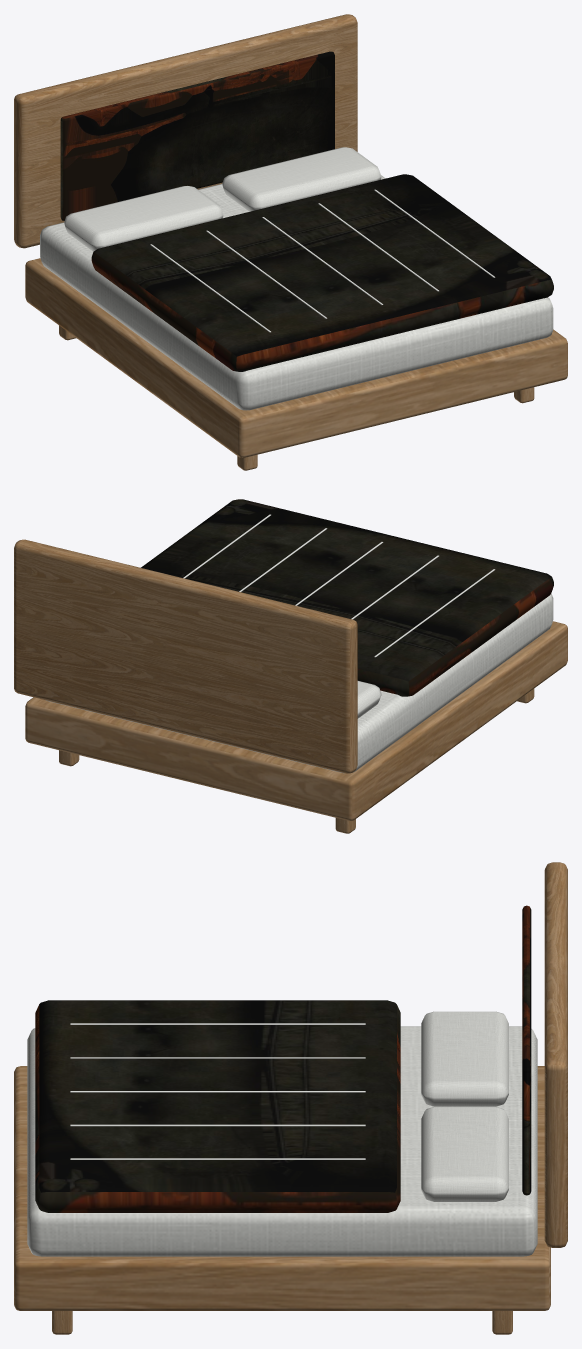
The model's file is bed_king_blue.glb.
3 renders of one model, top to bottom at view 1: azimuth 30°, elevation 25°; view 2: azimuth 150°, elevation 25°; view 3: azimuth 270°, elevation 25°, orthographic. The views are drawn at different scales.
Parts seen in each view (by area): view 1: quilt, padded headboard, bed frame, mattress, headboard, pillow, pillow.001; view 2: headboard, quilt, bed frame, mattress, pillow; view 3: quilt, bed frame, mattress, headboard, pillow, pillow.001, padded headboard, stitched quilt channel.003, stitched quilt channel, stitched quilt channel.001, stitched quilt channel.002, stitched quilt channel.004.
Boxes of the visible parts, x1,y1,x2,y2 form: quilt: (91, 174, 553, 371); padded headboard: (60, 51, 334, 220); bed frame: (25, 258, 567, 457); mattress: (40, 175, 553, 410); headboard: (14, 14, 357, 248); pillow: (64, 186, 223, 251); pillow.001: (222, 147, 381, 211); headboard: (14, 539, 357, 773); quilt: (141, 499, 553, 696); bed frame: (25, 621, 567, 820); mattress: (46, 593, 553, 773); pillow: (357, 681, 381, 718); quilt: (35, 1000, 400, 1212); bed frame: (14, 1066, 550, 1310); mattress: (27, 1026, 537, 1256); headboard: (544, 862, 567, 1247); pillow: (421, 1011, 508, 1106); pillow.001: (421, 1107, 508, 1201); padded headboard: (522, 905, 531, 1195); stitched quilt channel.003: (70, 1124, 365, 1126); stitched quilt channel: (70, 1023, 365, 1024); stitched quilt channel.001: (70, 1057, 365, 1058); stitched quilt channel.002: (70, 1091, 365, 1092); stitched quilt channel.004: (70, 1158, 365, 1159).
Bounding box in the file's own units: 1.87 × 1.23 × 2.15.
Materials: 5 (4 with a texture image).
